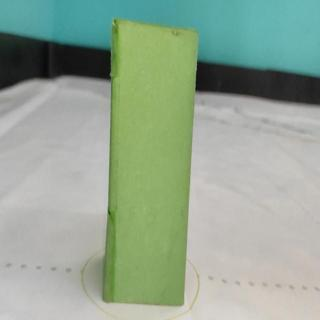greenbox: (108, 13, 201, 308)
